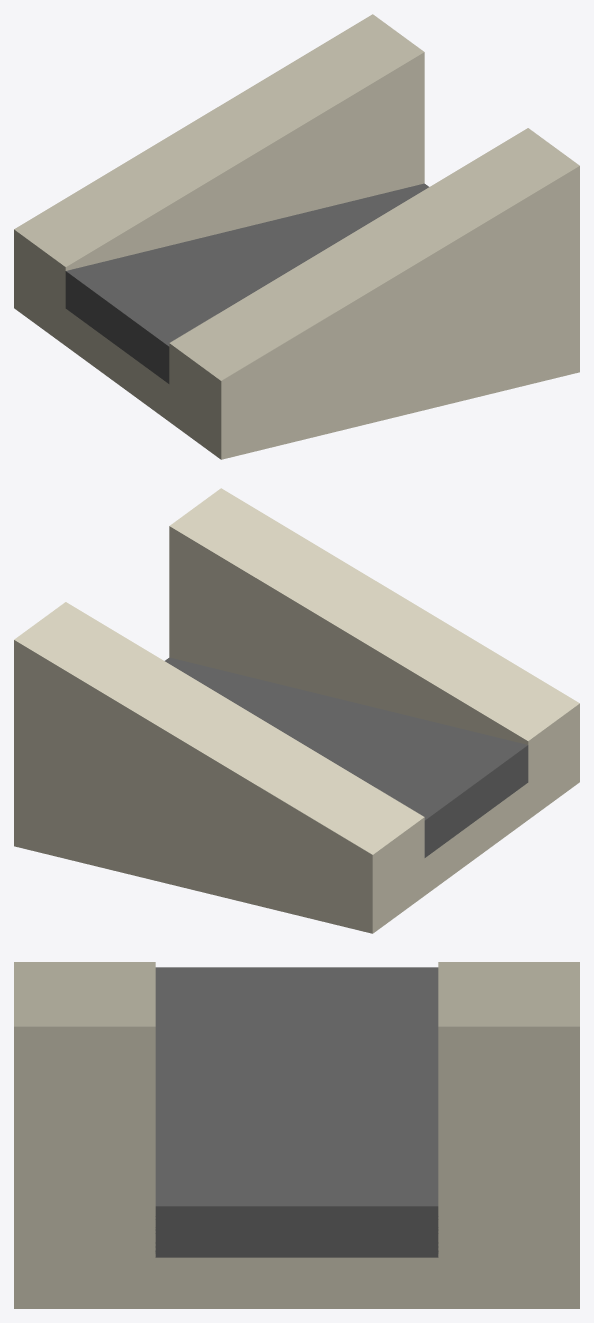
Rendered from tile270.fbx.
3 renders of one model, top to bottom at view 1: azimuth 30°, elevation 25°; view 2: azimuth 150°, elevation 25°; view 3: azimuth 270°, elevation 25°, orthographic. The views are drawn at different scales.
Parts seen in each view (by area): view 1: tile270; view 2: tile270; view 3: tile270.
Boxes of the visible parts, x1,y1,x2,y2 form: tile270: [14, 14, 579, 459]; tile270: [14, 488, 579, 933]; tile270: [14, 962, 579, 1308].
Size of the model in its own units: 10 by 5.5 by 10.
